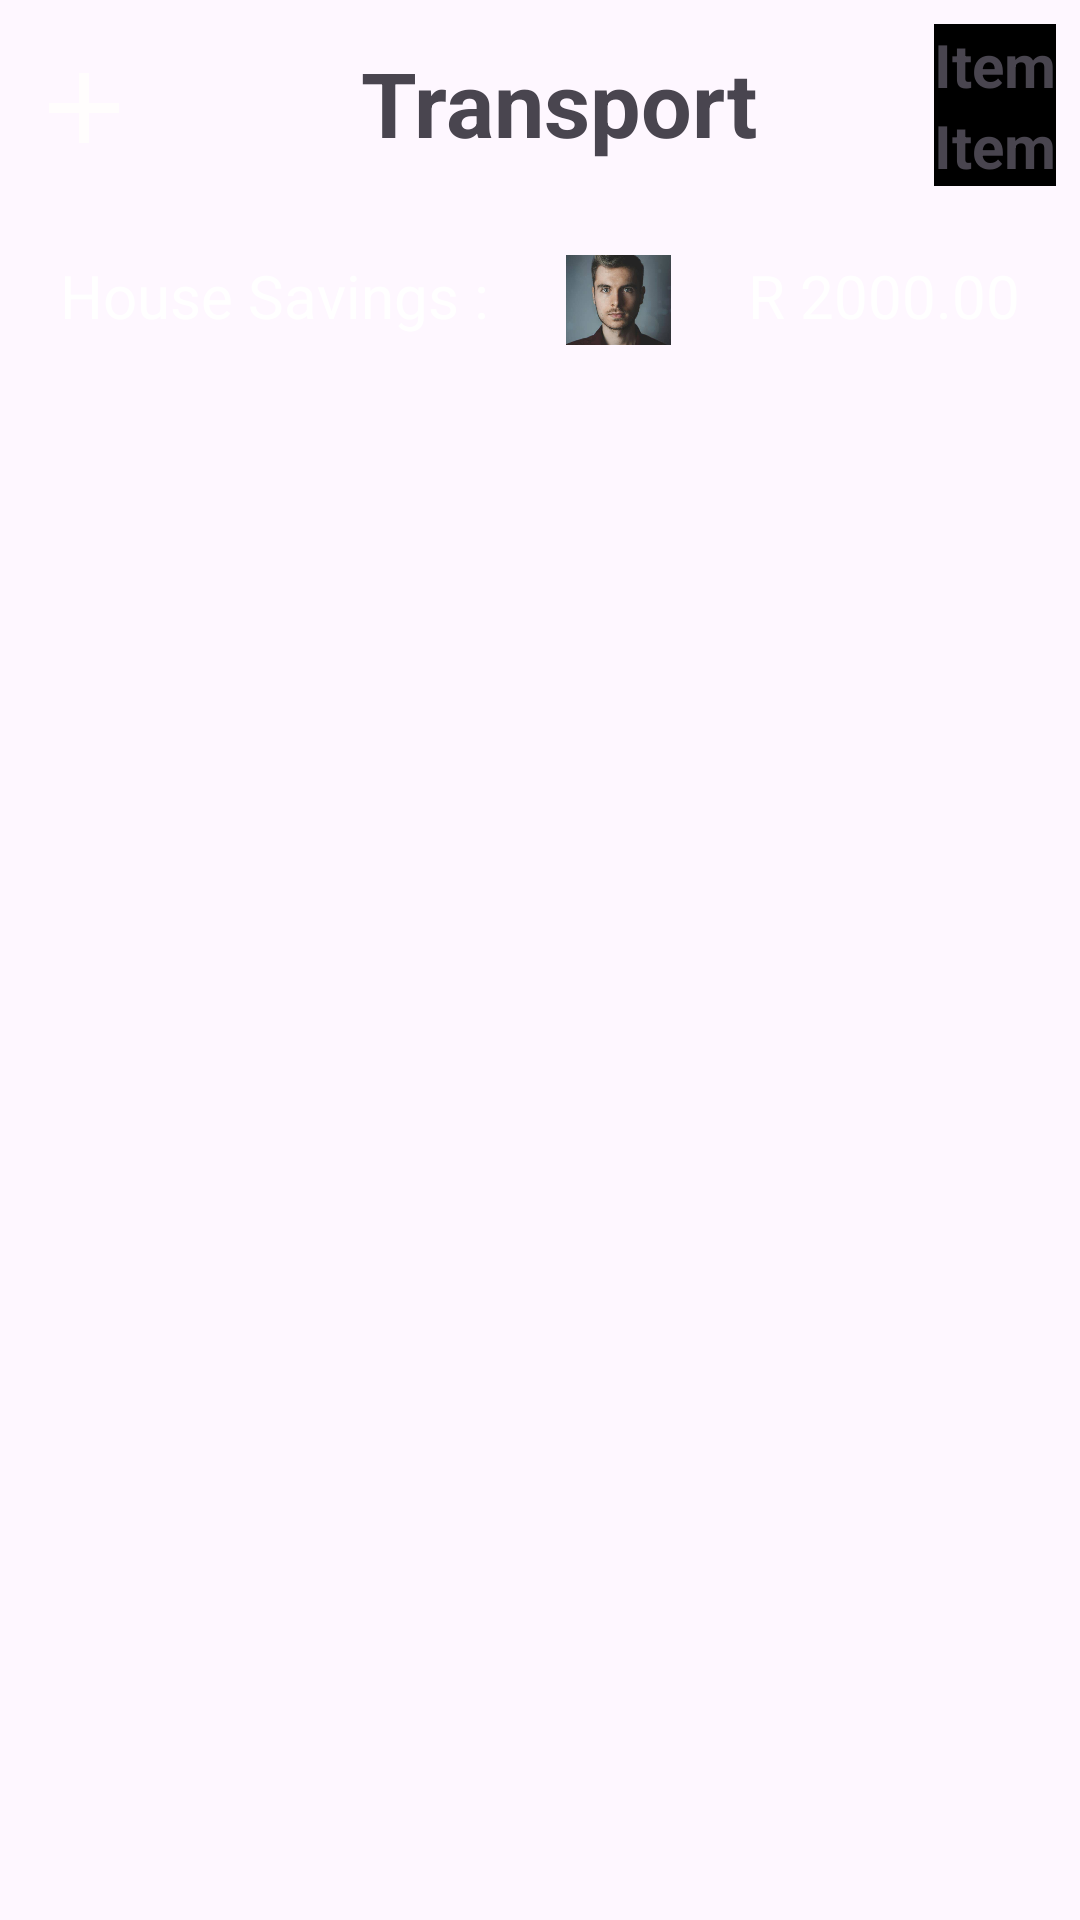

Screen size 1080 x 1920. Icon name, then its center in pixels as [x,y]:
profile: [618,300]
